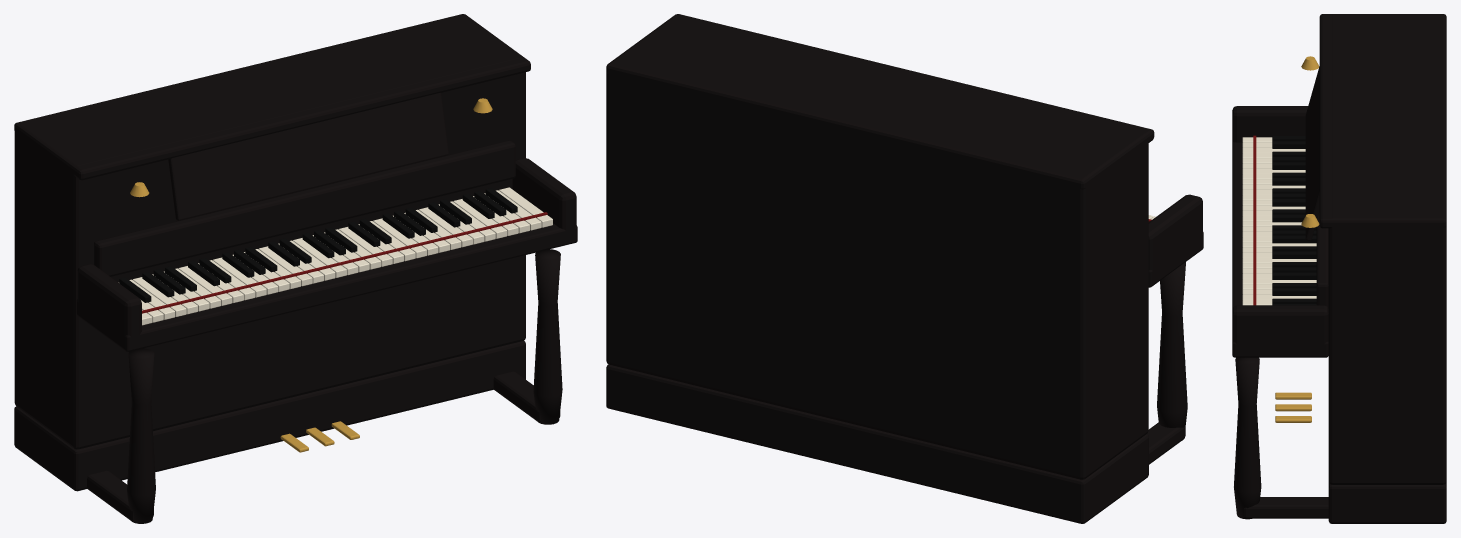
Rendered from piano.glb.
The picture shows the model from 3 angles, left to right: view 1: azimuth 30°, elevation 25°; view 2: azimuth 150°, elevation 25°; view 3: azimuth 270°, elevation 25°; orthographic projection. The views are drawn at different scales.
Parts seen in each view (by area): view 1: piano; view 2: piano; view 3: piano.
Part boxes in pixels (left/top/right/bottom): piano: left=14, top=14, right=577, bottom=523; piano: left=606, top=14, right=1203, bottom=523; piano: left=1232, top=14, right=1446, bottom=523.
Bounding box in the file's own units: 1.6 × 1.1 × 0.7.
